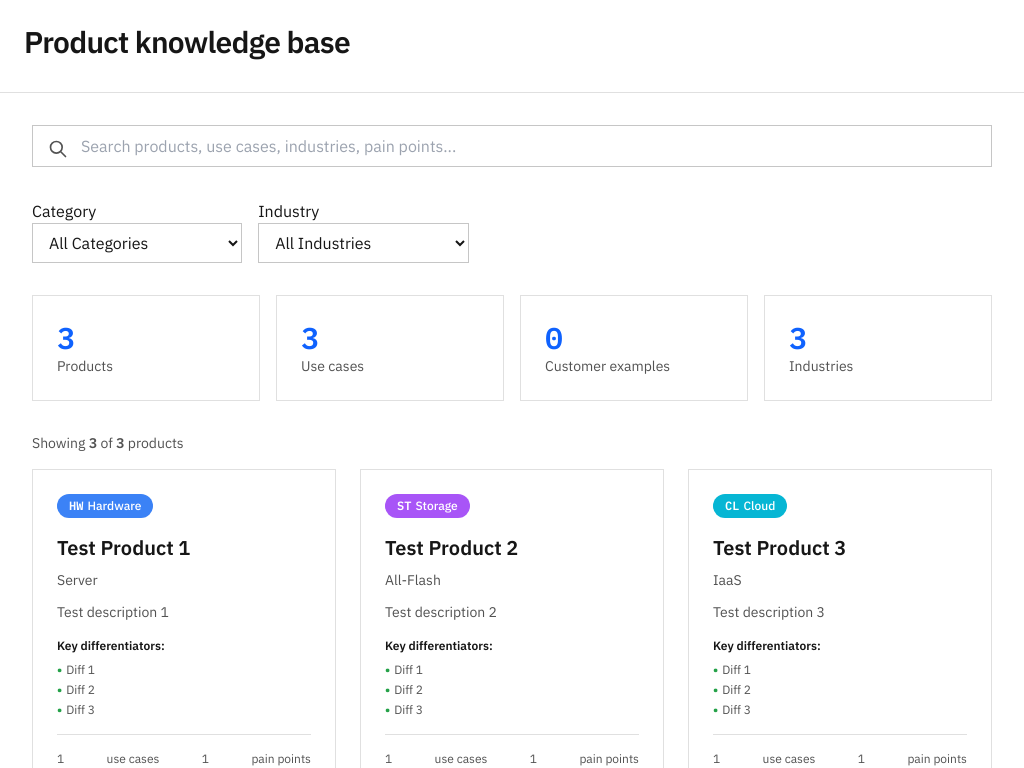
it: ProductLibraryPage › Clear Filters › should clear all filters when clicked
The width and height of the screenshot is (1024, 768).
Type "test" into the field with placeholder "Search products, use cases, industries, pain points..." at (512, 146), box [32, 125, 992, 167]
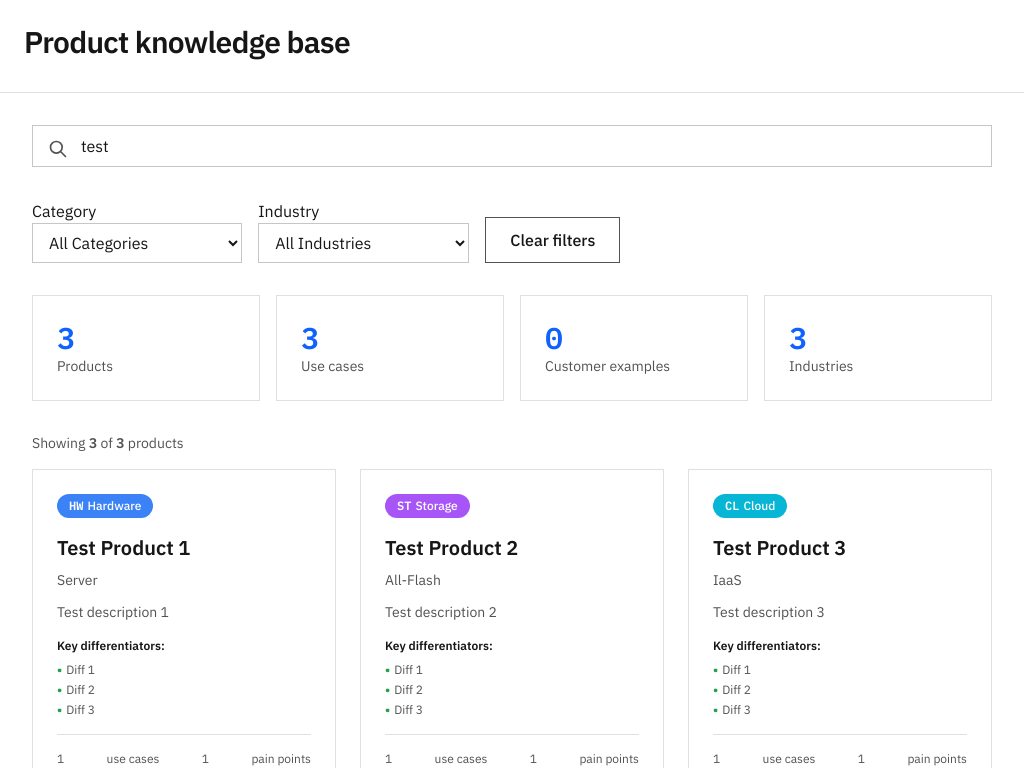
Select "Hardware" in the dropdown labelled "Category" at (137, 243), box [32, 223, 242, 263]
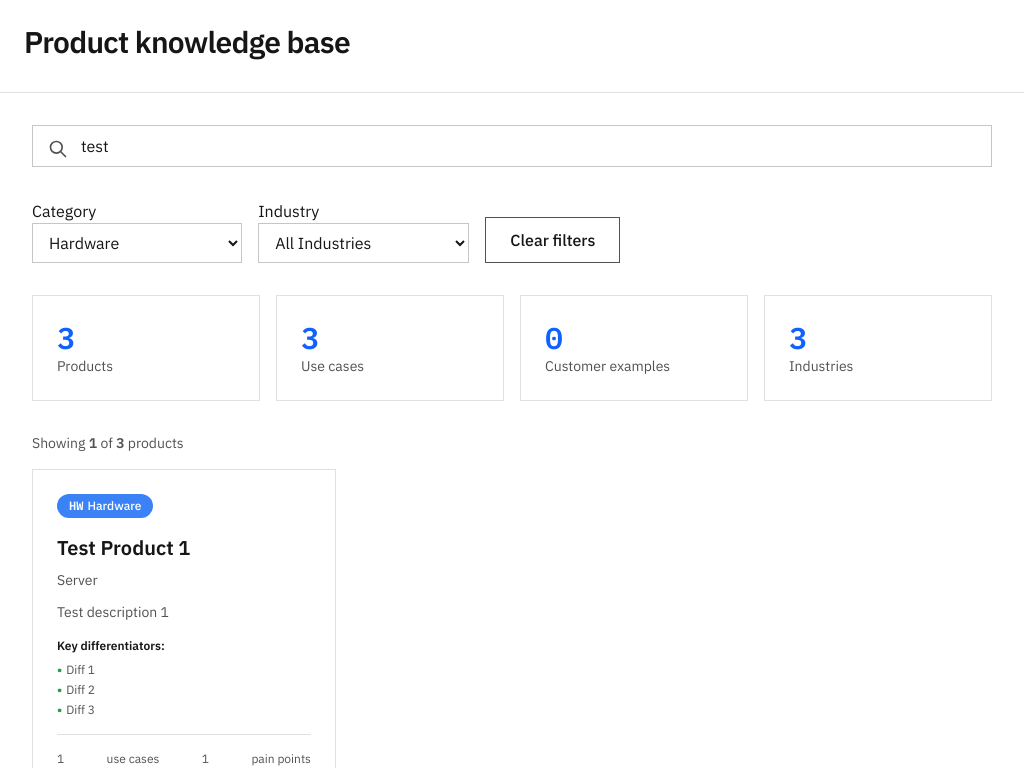
Click the button "Clear filters" at (553, 240), box [485, 217, 620, 263]
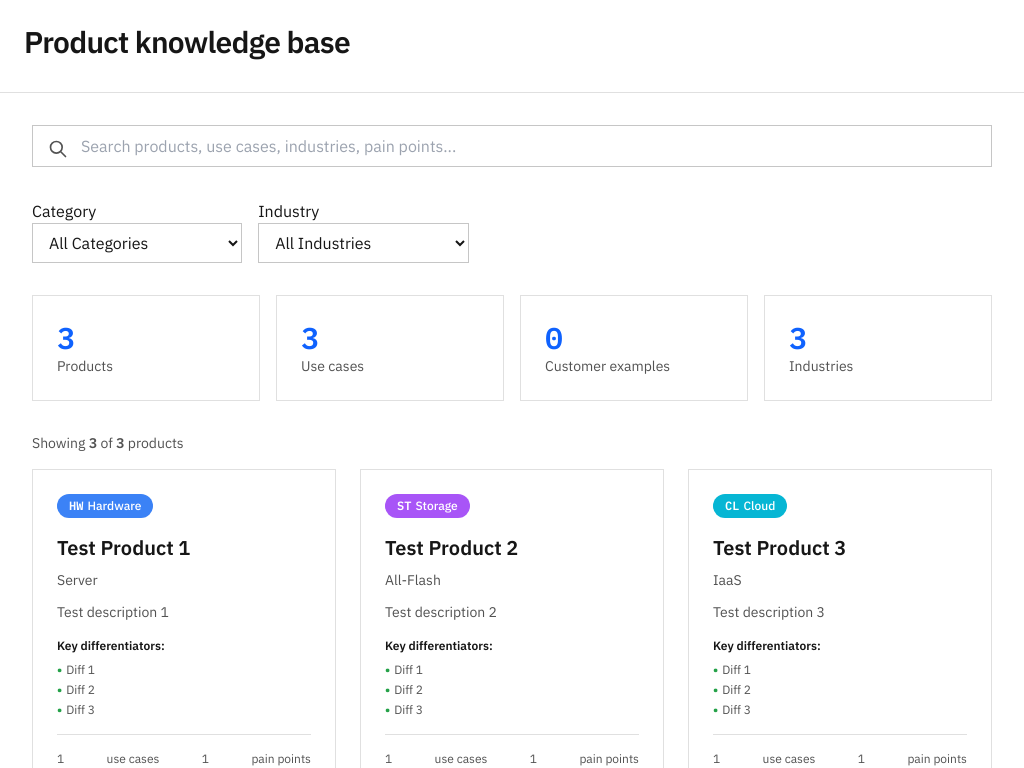
Result: the field with placeholder "Search products, use cases, industries, pain points..." is empty at [32, 125, 992, 167]
Result: the heading "Test Product 2" is shown at [385, 534, 518, 561]
Result: the heading "Test Product 3" is shown at [713, 534, 846, 561]
